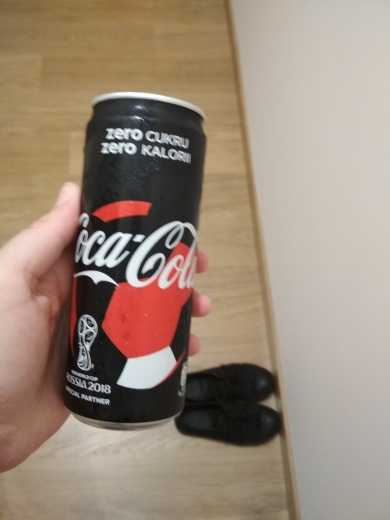colazero: (50, 77, 213, 438)
